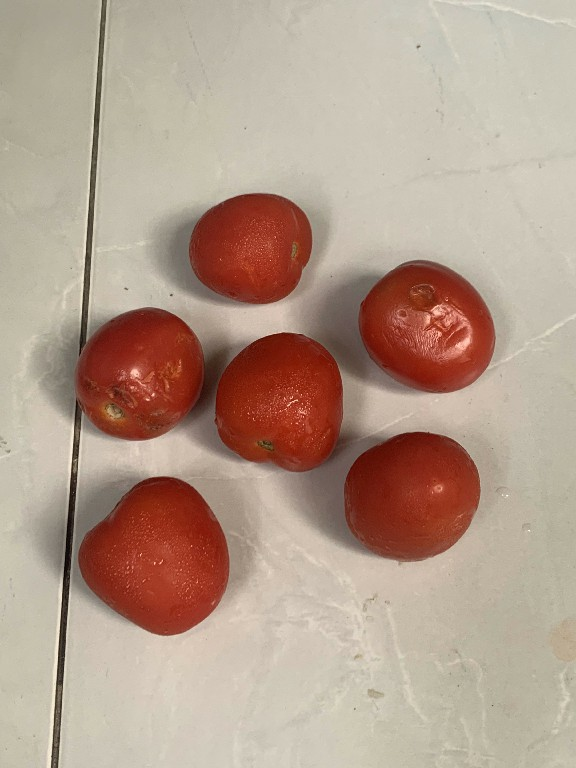NG: (355, 254, 500, 401), (71, 300, 205, 443)
OK: (76, 467, 234, 644), (346, 429, 486, 566), (214, 330, 344, 468), (187, 184, 315, 308)
